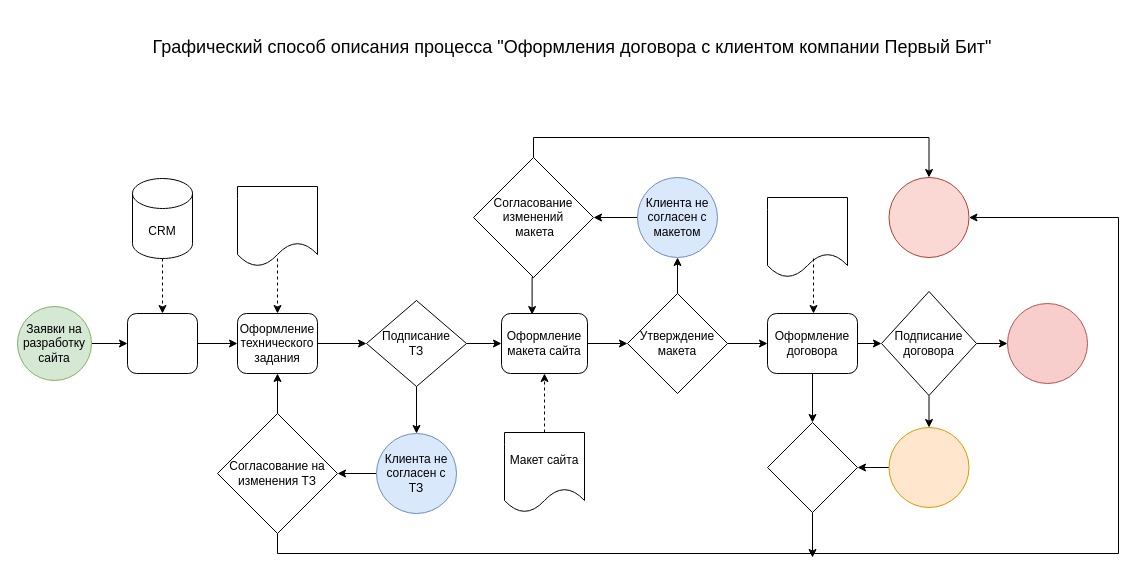
Image size: 1144x583. Some labels were removed from this diagram. The shapes that lost their labels are listed below. From the top down, each one's box as (x1, y1, x2, y2) in pixels, then its label:
(236, 186, 318, 266): Техническое задание
(766, 196, 848, 278): Договор
(888, 176, 969, 258): Отказ
(126, 312, 198, 374): Регистрация заявки
(1006, 302, 1088, 384): Сделка
(766, 422, 858, 512): Изменения договора
(888, 426, 969, 508): Клиента не согласен с договором
